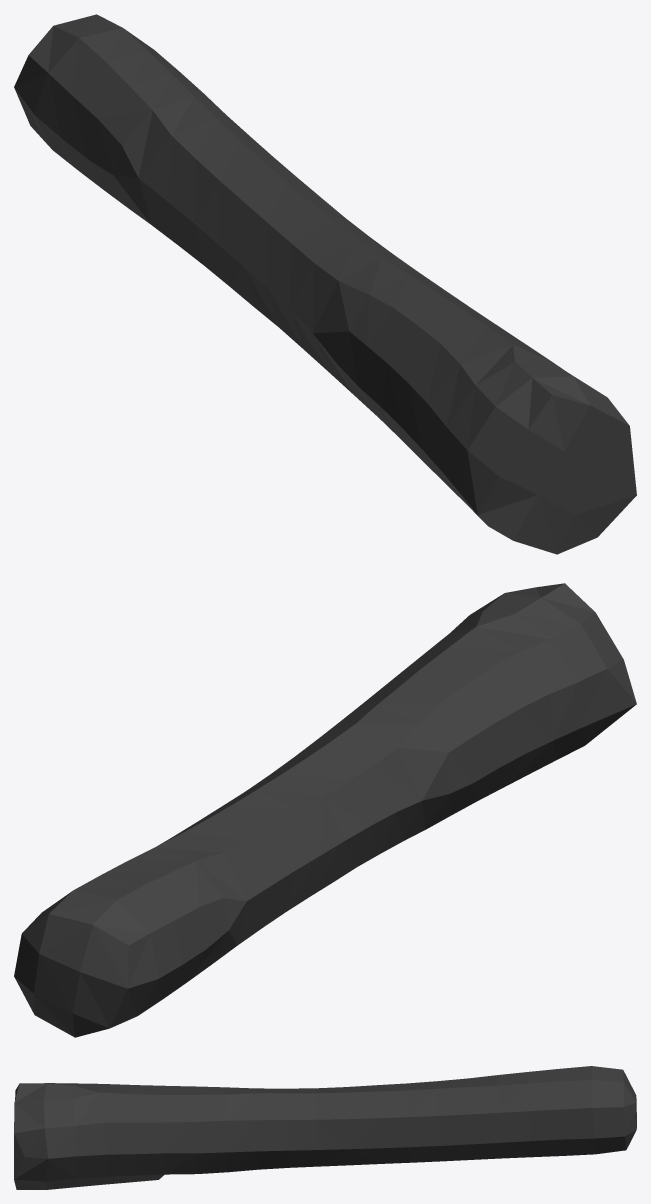
Rendered from Central_canal.glb.
3 views of the same model, one above another, from view 1: azimuth 30°, elevation 25°; view 2: azimuth 150°, elevation 25°; view 3: azimuth 270°, elevation 25° (orthographic). The views are drawn at different scales.
Parts seen in each view (by area): view 1: Central_canal; view 2: Central_canal; view 3: Central_canal.
Part boxes in pixels (left/top/right/bottom): Central_canal: left=14, top=14, right=636, bottom=554; Central_canal: left=14, top=583, right=636, bottom=1037; Central_canal: left=14, top=1066, right=636, bottom=1189.
Size of the model in its own units: 0.000599 by 0.000615 by 0.00311.
Materials: 1 (1 with a texture image).
